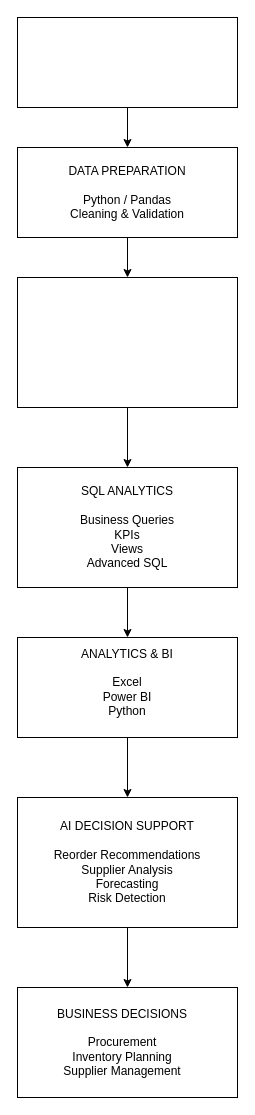
Image size: 255x1115. Some labels were removed from this diagram. Each missing label, with the centre of its shape:
DATA SOURCES Kaggle / Public Datasets Generated Business Data: point (127, 62)
POSTGRESQL DATABASE Products Suppliers Procurement Warehouses Inventory: point (127, 342)
